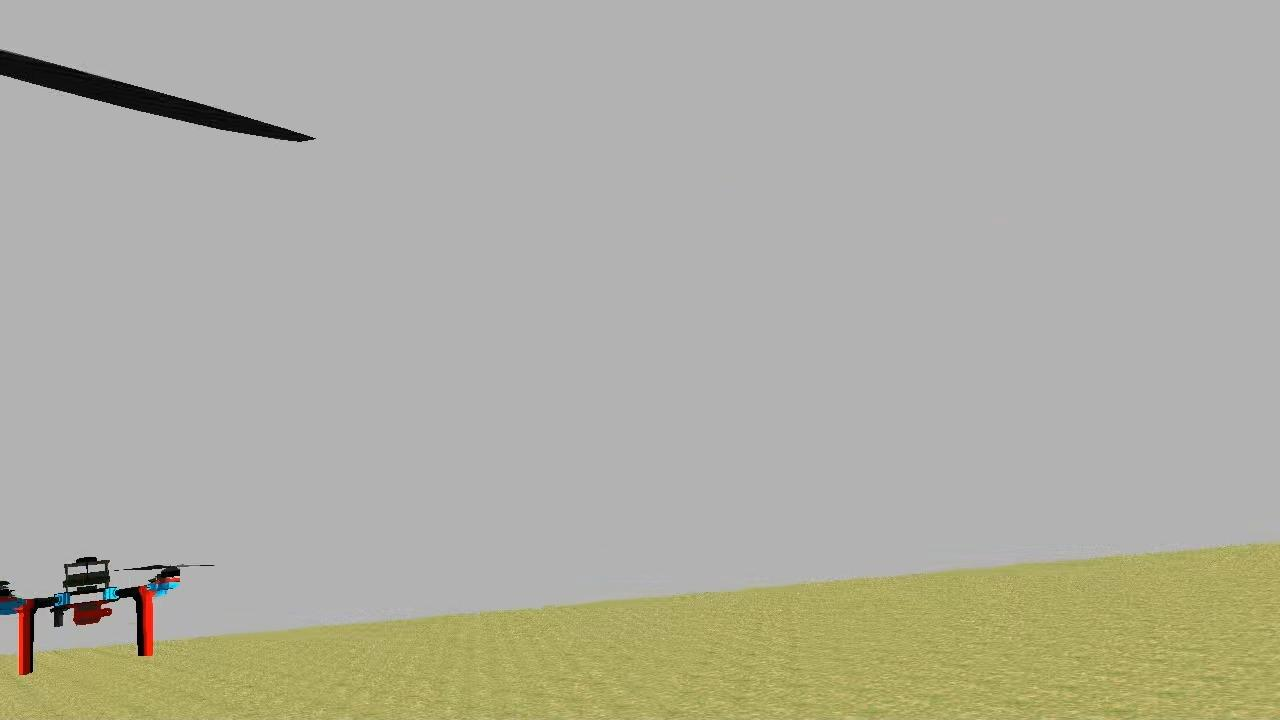UAV: (0, 547, 193, 683)
